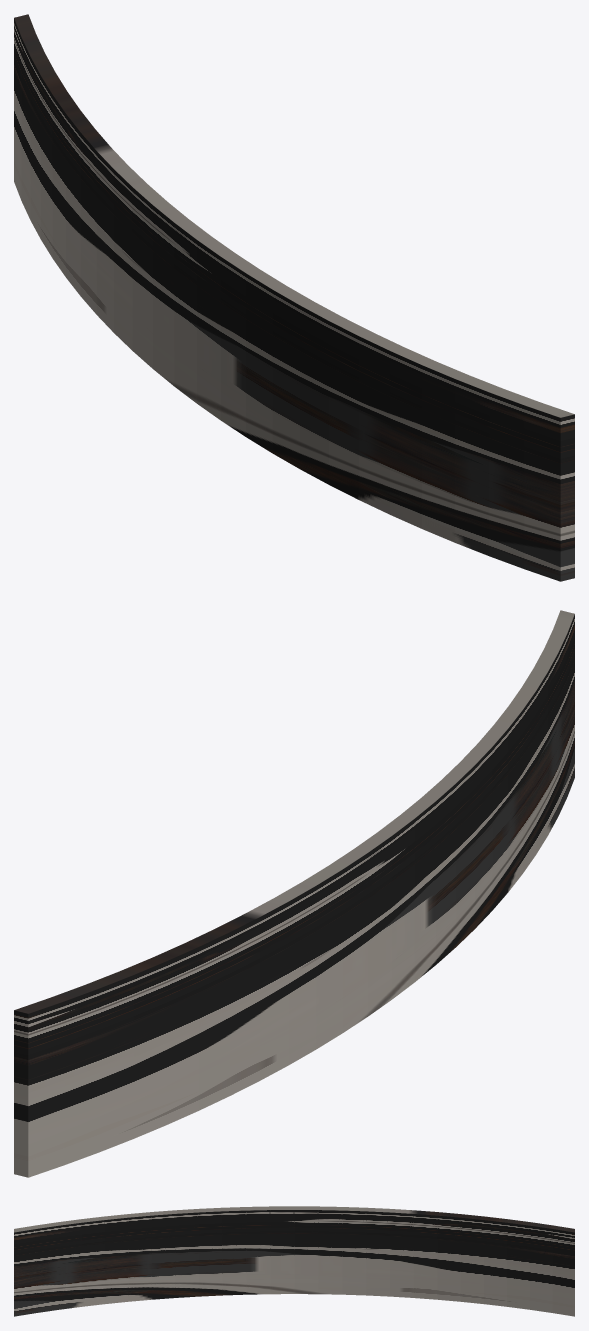
Rendered from ConveyorBelt_effector.fbx.
3 renders of one model, top to bottom at view 1: azimuth 30°, elevation 25°; view 2: azimuth 150°, elevation 25°; view 3: azimuth 270°, elevation 25°, orthographic. The views are drawn at different scales.
Visible parts, largest first — view 1: ConveyorBelt_effector; view 2: ConveyorBelt_effector; view 3: ConveyorBelt_effector.
Part boxes in pixels (x1,y1,x2,y2): ConveyorBelt_effector: (14,14,574,581); ConveyorBelt_effector: (14,610,574,1177); ConveyorBelt_effector: (14,1206,574,1316).
Size of the model in its own units: 73.62 by 8.15 by 12.18.
